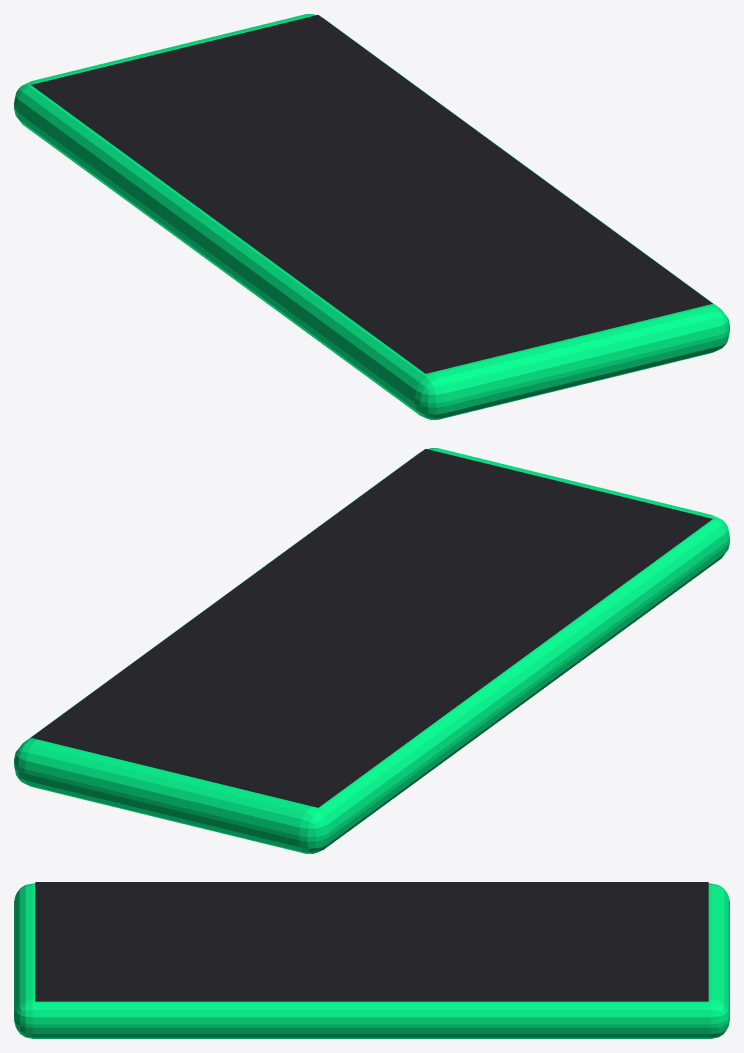
The model's file is Phone_951.glb.
The picture shows the model from 3 angles, top to bottom: view 1: azimuth 30°, elevation 25°; view 2: azimuth 150°, elevation 25°; view 3: azimuth 270°, elevation 25°; orthographic projection. The views are drawn at different scales.
Visible parts, largest first — view 1: Phone_Screen, Phone_Body; view 2: Phone_Screen, Phone_Body; view 3: Phone_Screen, Phone_Body.
Part boxes in pixels (x1,y1,x2,y2): Phone_Screen: (31,15,712,373); Phone_Body: (14,14,729,419); Phone_Screen: (31,449,712,807); Phone_Body: (14,448,729,853); Phone_Screen: (35,882,708,1001); Phone_Body: (14,883,729,1038).
Bounding box in the file's own units: 0.0729 × 0.01 × 0.1697.
